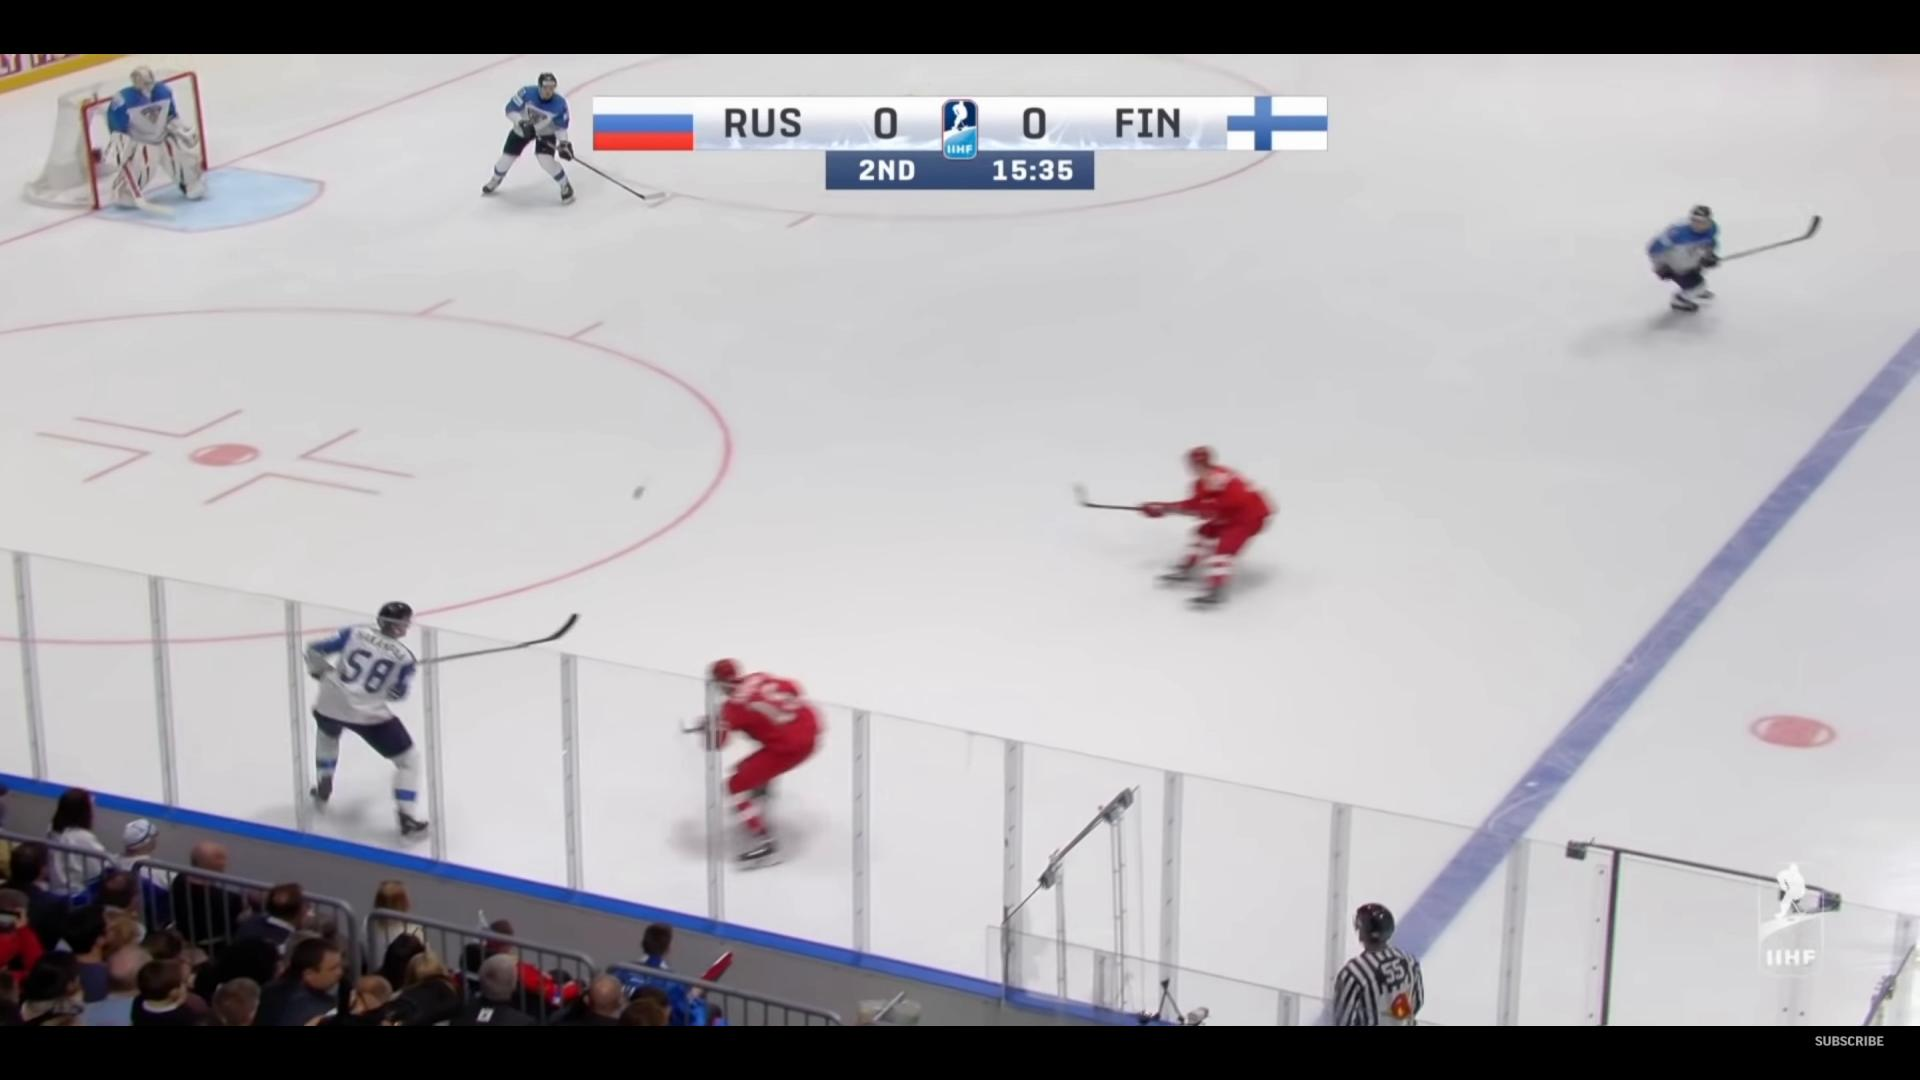puck: (632, 484, 645, 497)
